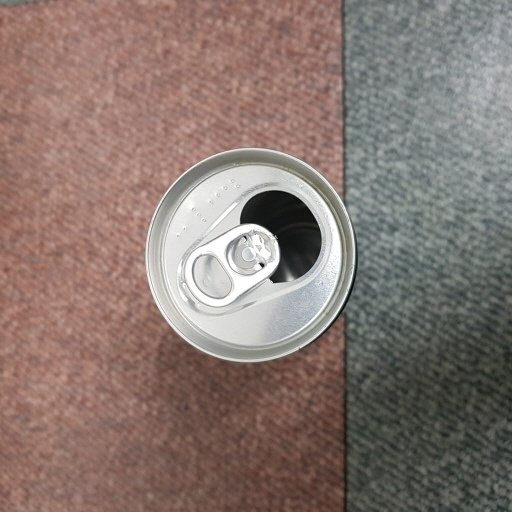Metal_0: (144, 145, 358, 370)
